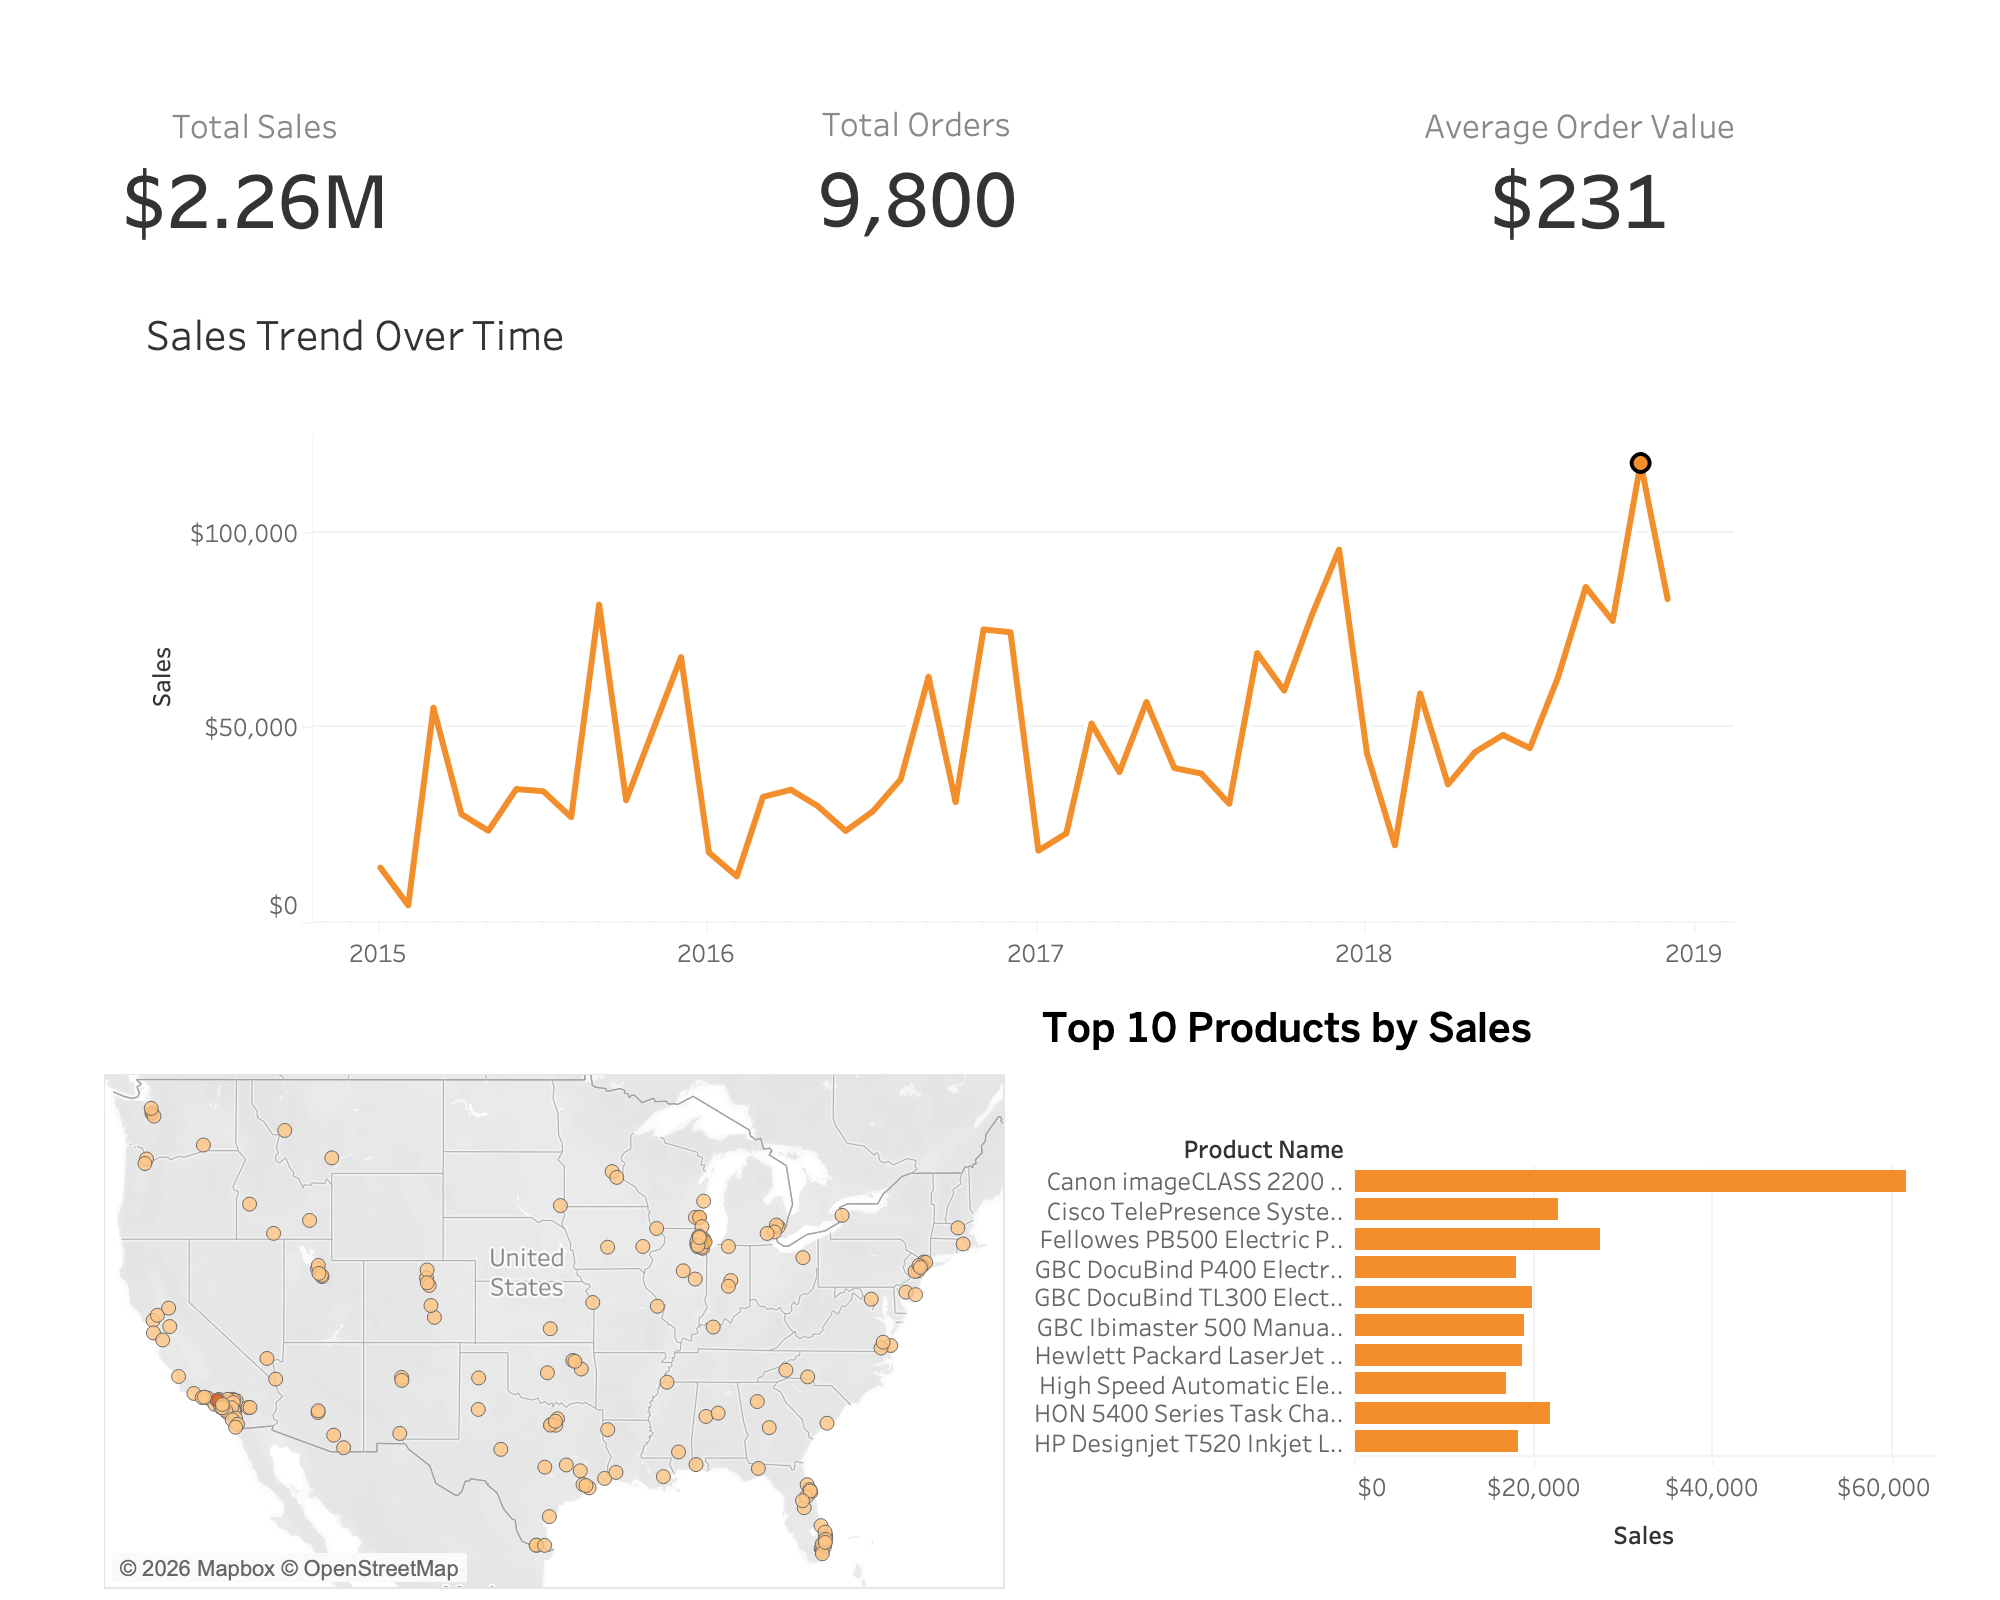

This screenshot's page, from the dashboard's own definition file:
{"tool":"tableau","page":{"name":"Dashboard 1","canvas":[1000,800],"ordinal":0},"visuals":[{"type":"worksheet","title":"Sheet 2","mark":"Automatic","box":[48,37,191,112]},{"type":"worksheet","title":"Sheet 3","mark":"Automatic","box":[399,37,240,116]},{"type":"worksheet","title":"Sheet 7 (2)","mark":"Automatic","box":[700,37,191,112]},{"type":"worksheet","title":"Sheet 10","mark":"Automatic","rows":["Sales"],"cols":["Order Date"],"box":[65,147,802,344]},{"type":"worksheet","title":"Sheet 1","mark":"Multipolygon","box":[52,494,451,301]},{"type":"worksheet","title":"Sheet 11","mark":"Automatic","rows":["Product Name"],"cols":["Sales"],"box":[517,496,450,287]}]}

Visuals, with their boxes in screenshot pixels (x1, y1, x2, y2), scaled from the page's 1000x800 canvas onto the 2000x1600 screenshot:
"Sheet 2" worksheet: locate(96, 74, 478, 298)
"Sheet 3" worksheet: locate(798, 74, 1278, 306)
"Sheet 7 (2)" worksheet: locate(1400, 74, 1782, 298)
"Sheet 10" worksheet: locate(130, 294, 1734, 982)
"Sheet 1" worksheet (Multipolygon marks): locate(104, 988, 1006, 1590)
"Sheet 11" worksheet: locate(1034, 992, 1934, 1566)
